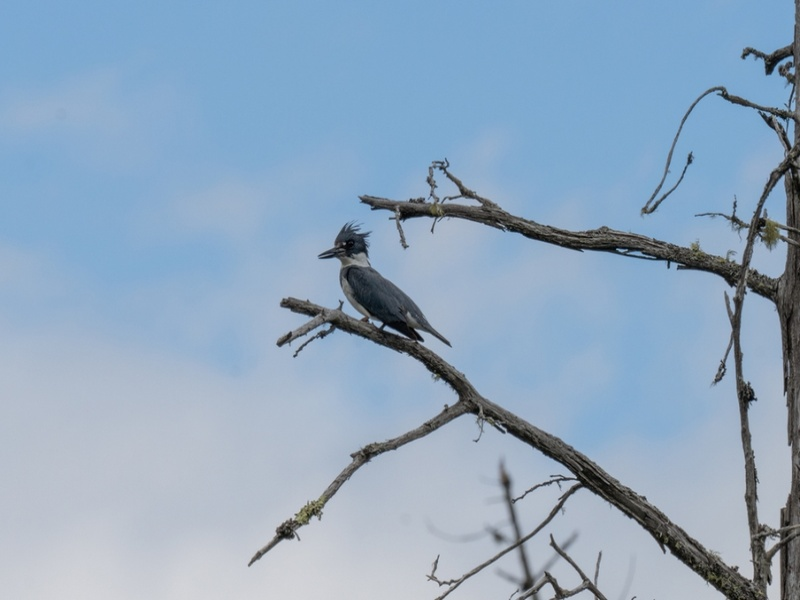kingfisher: (317, 220, 452, 351)
